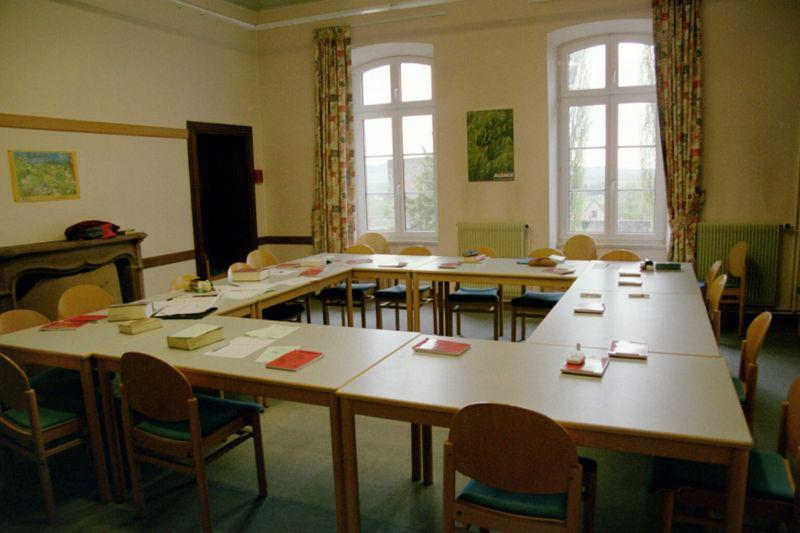Ventana: (561, 47, 667, 249), (350, 64, 434, 245)
